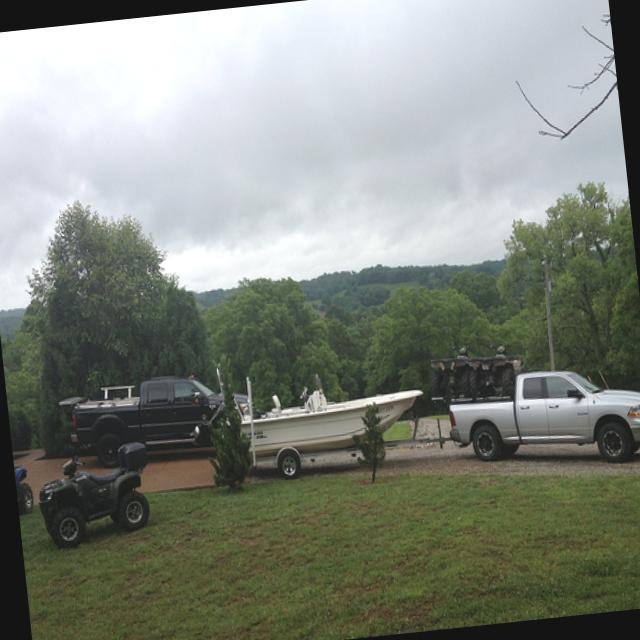Vehicle: (441, 359, 640, 478), (70, 372, 253, 470), (31, 442, 156, 546)
